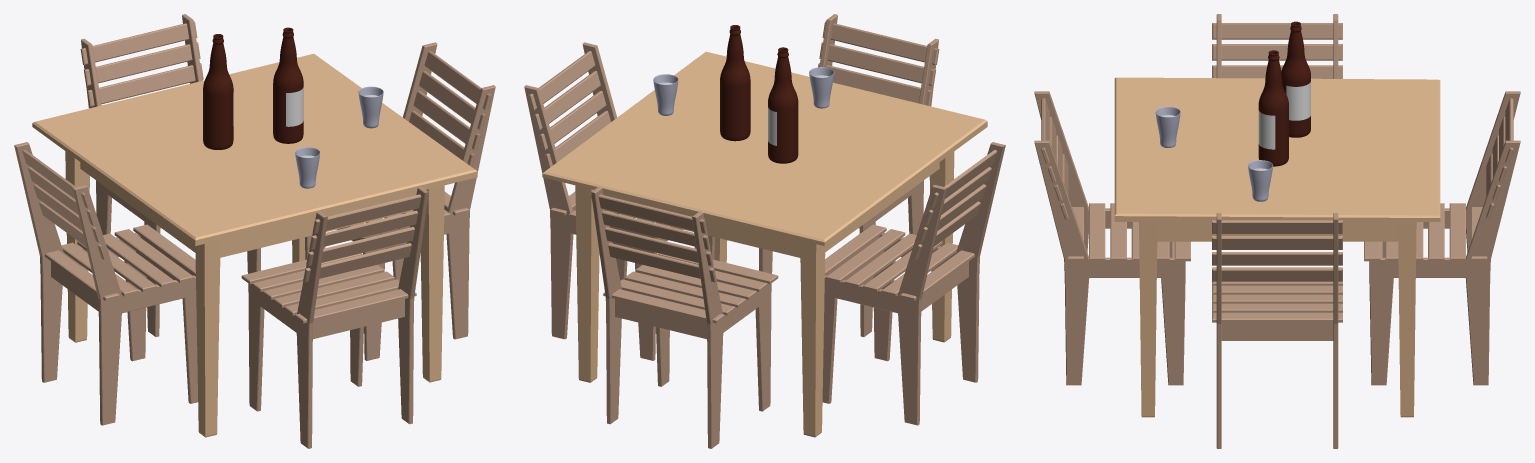
File: buteco_cycles.fbx
3 views of the same model, side by side, from view 1: azimuth 30°, elevation 25°; view 2: azimuth 150°, elevation 25°; view 3: azimuth 270°, elevation 25° (orthographic).
Visible parts, largest first — view 1: Mesa, Cadeira, Cadeira.002, Cadeira.001, Cadeira.003, Cerveja, Cerveja.001, Copo.001, Copo; view 2: Mesa, Cadeira.003, Cadeira.002, Cadeira.001, Cadeira, Cerveja.001, Cerveja, Copo.001, Copo; view 3: Mesa, Cadeira.001, Cadeira, Cadeira.003, Cadeira.002, Cerveja, Cerveja.001, Copo.001, Copo.
Boxes of the visible parts, <box> form: Mesa: <box>32,53,477,437</box>; Cadeira: <box>241,186,429,448</box>; Cadeira.002: <box>14,142,197,425</box>; Cadeira.001: <box>305,42,495,360</box>; Cadeira.003: <box>80,14,260,336</box>; Cerveja: <box>273,27,303,143</box>; Cerveja.001: <box>203,34,233,149</box>; Copo.001: <box>358,86,383,128</box>; Copo: <box>295,147,320,188</box>; Mesa: <box>542,51,987,437</box>; Cadeira.003: <box>590,186,778,448</box>; Cadeira.002: <box>822,142,1005,425</box>; Cadeira.001: <box>524,42,714,360</box>; Cadeira: <box>759,14,939,336</box>; Cerveja.001: <box>768,47,798,163</box>; Cerveja: <box>720,25,750,141</box>; Copo.001: <box>653,74,678,115</box>; Copo: <box>809,67,834,108</box>; Mesa: <box>1114,77,1440,417</box>; Cadeira.001: <box>1212,213,1342,448</box>; Cadeira: <box>1034,91,1190,385</box>; Cadeira.003: <box>1364,91,1520,385</box>; Cadeira.002: <box>1212,14,1342,78</box>; Cerveja: <box>1258,50,1288,166</box>; Cerveja.001: <box>1281,21,1310,137</box>; Copo.001: <box>1248,160,1273,201</box>; Copo: <box>1155,106,1180,147</box>.
Bounding box in the file's own units: 144 × 105 × 144.
